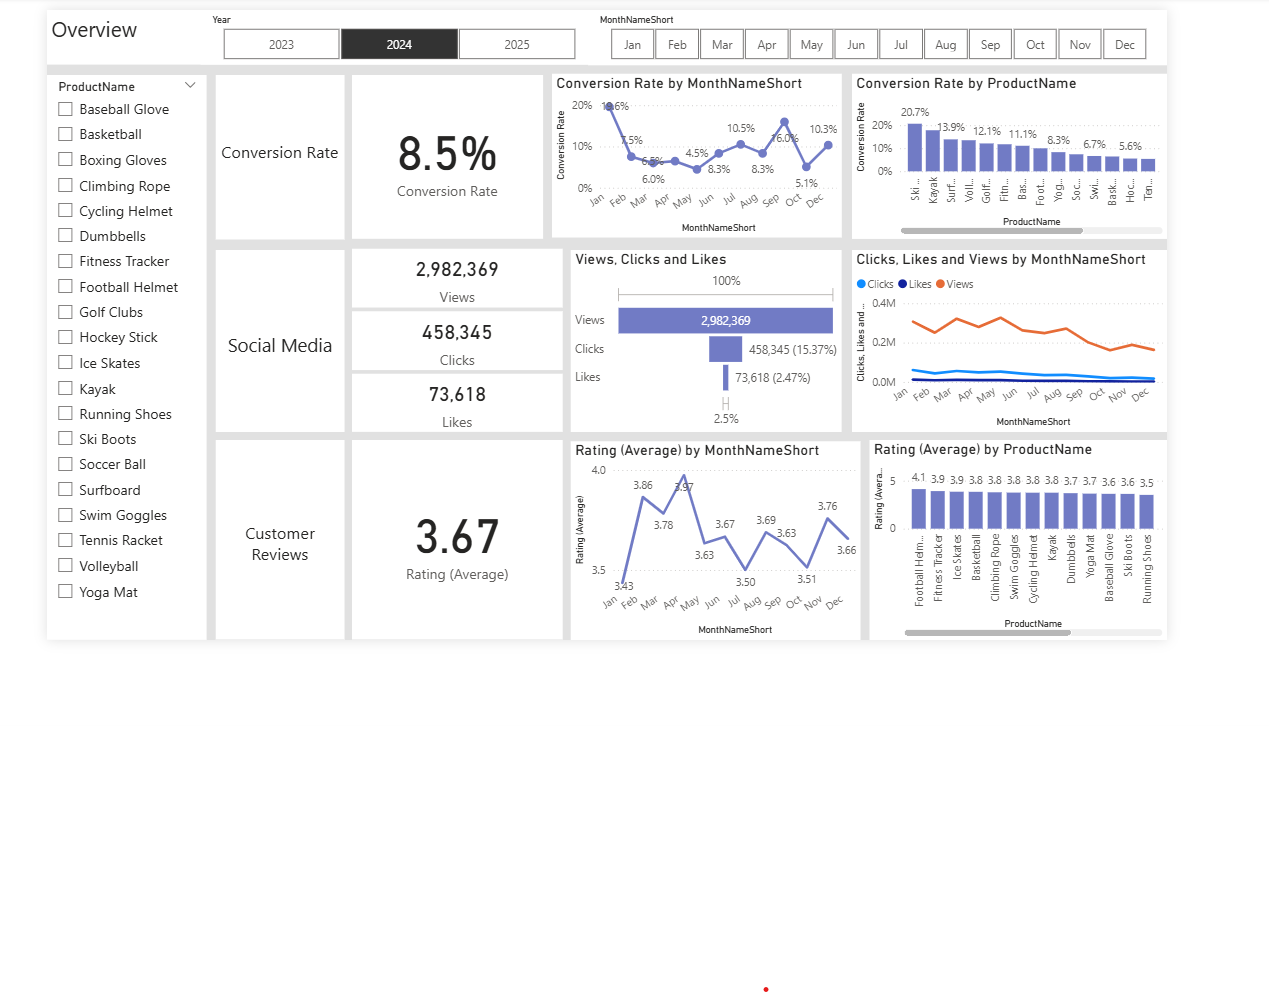

What the dashboard file says about the page in this screenshot:
{"tool":"powerbi","page":{"name":"Overview","canvas":[1280,720],"ordinal":0},"visuals":[{"type":"textbox","box":[0,0,1280,62.7],"z":0},{"type":"slicer","fields":{"Values":["dim_products.ProductName"]},"box":[0,74.1,182.4,645.7],"z":1000},{"type":"textbox","box":[192.4,74.1,146.8,188.2],"z":2000},{"type":"textbox","box":[192.4,273.7,146.8,208.1],"z":3000},{"type":"textbox","box":[192.4,491.8,146.8,228.1],"z":4000},{"type":"card","fields":{"Values":["_Calculations.Conversion Rate"]},"box":[349.2,74.6,218.3,187.3],"z":5000},{"type":"card","fields":{"Values":["_Calculations.Views"]},"box":[349.2,273.2,240.8,67.6],"z":6000},{"type":"card","fields":{"Values":["_Calculations.Clicks"]},"box":[349.2,345,240.8,67.6],"z":7000},{"type":"card","fields":{"Values":["_Calculations.Likes"]},"box":[349.2,415.4,240.8,66.2],"z":8000},{"type":"card","fields":{"Values":["_Calculations.Rating (Average)"]},"box":[349.2,491.4,240.8,228.1],"z":9000},{"type":"slicer","fields":{"Values":["Calendar.Year"]},"box":[175.3,0,451.8,62.7],"z":10000},{"type":"slicer","fields":{"Values":["Calendar.MonthNameShort"]},"box":[618.2,0,661.8,63.4],"z":11000},{"type":"lineChart","fields":{"Y":["_Calculations.Conversion Rate"],"Category":["Calendar.MonthNameShort"]},"box":[577.3,73.2,330.9,187.3],"z":12000},{"type":"clusteredColumnChart","fields":{"Category":["dim_products.ProductName"],"Y":["_Calculations.Conversion Rate"]},"box":[919.8,73.2,360.2,188.5],"z":13000},{"type":"lineChart","fields":{"Category":["Calendar.MonthNameShort"],"Y":["_Calculations.Clicks","_Calculations.Likes","_Calculations.Views"]},"box":[919.8,273.8,360.2,207.7],"z":14000},{"type":"funnel","fields":{"Y":["_Calculations.Views","_Calculations.Clicks","_Calculations.Likes"]},"box":[599.2,273.8,309.8,207.7],"z":15000},{"type":"lineChart","fields":{"Y":["_Calculations.Rating (Average)"],"Category":["Calendar.MonthNameShort"]},"box":[599.2,492.3,331.4,226.9],"z":16000},{"type":"clusteredColumnChart","fields":{"Category":["dim_products.ProductName"],"Y":["_Calculations.Rating (Average)"]},"box":[940.2,491.1,339.8,229.3],"z":17000}]}

Visuals, with their boxes on the page's 1280x720 design canvas (x1, y1, x2, y2). These are canvas units, not pixel positions in the 1269x993 screenshot, which may show the page scaled, cropped or inside an application window:
textbox: <region>0, 0, 1280, 63</region>
slicer - dim_products.ProductName: <region>0, 74, 182, 720</region>
textbox: <region>192, 74, 339, 262</region>
textbox: <region>192, 274, 339, 482</region>
textbox: <region>192, 492, 339, 720</region>
card - _Calculations.Conversion Rate: <region>349, 75, 568, 262</region>
card - _Calculations.Views: <region>349, 273, 590, 341</region>
card - _Calculations.Clicks: <region>349, 345, 590, 413</region>
card - _Calculations.Likes: <region>349, 415, 590, 482</region>
card - _Calculations.Rating (Average): <region>349, 491, 590, 720</region>
slicer - Calendar.Year: <region>175, 0, 627, 63</region>
slicer - Calendar.MonthNameShort: <region>618, 0, 1280, 63</region>
lineChart - _Calculations.Conversion Rate x Calendar.MonthNameShort: <region>577, 73, 908, 260</region>
clusteredColumnChart - dim_products.ProductName x _Calculations.Conversion Rate: <region>920, 73, 1280, 262</region>
lineChart - Calendar.MonthNameShort x _Calculations.Clicks: <region>920, 274, 1280, 482</region>
funnel - _Calculations.Views x _Calculations.Clicks: <region>599, 274, 909, 482</region>
lineChart - _Calculations.Rating (Average) x Calendar.MonthNameShort: <region>599, 492, 931, 719</region>
clusteredColumnChart - dim_products.ProductName x _Calculations.Rating (Average): <region>940, 491, 1280, 720</region>
